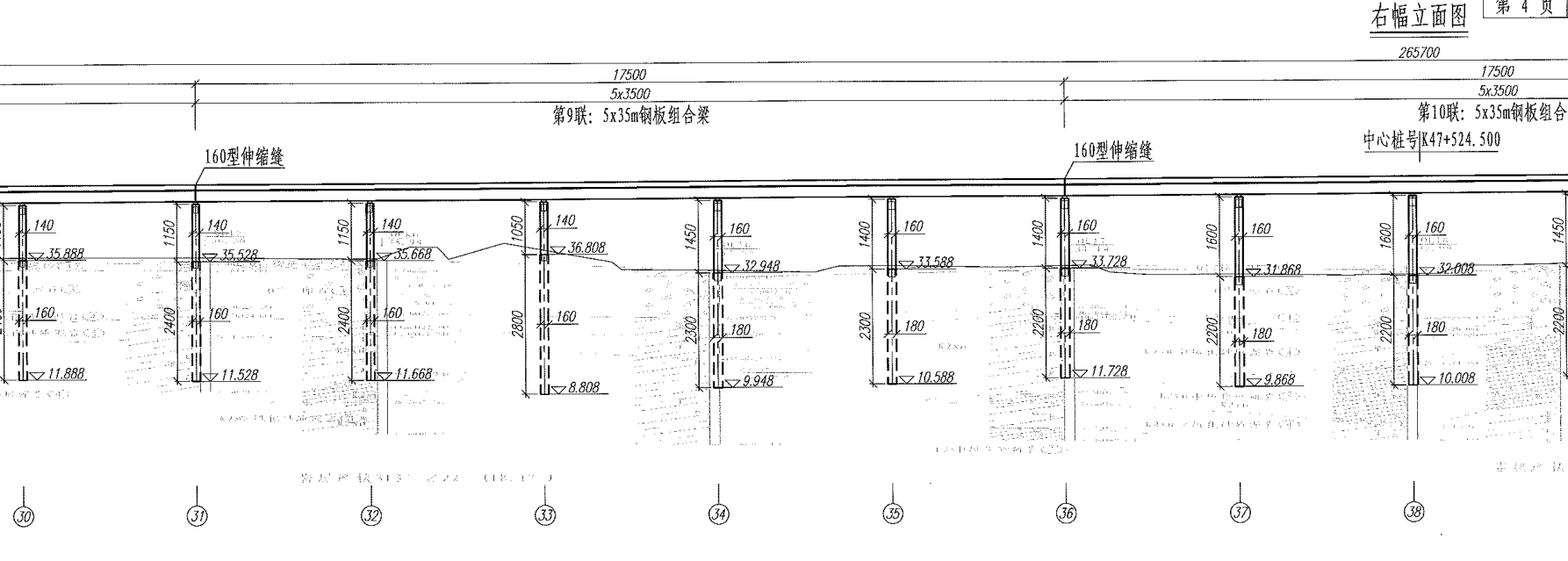A: (1, 40, 1568, 66)
B: (183, 68, 1073, 88)
C: (1036, 191, 1150, 529), (689, 192, 801, 528), (1, 194, 111, 529), (866, 191, 975, 527), (347, 192, 454, 531), (173, 193, 280, 530), (1212, 191, 1319, 527), (1387, 190, 1492, 527), (521, 191, 624, 529)
